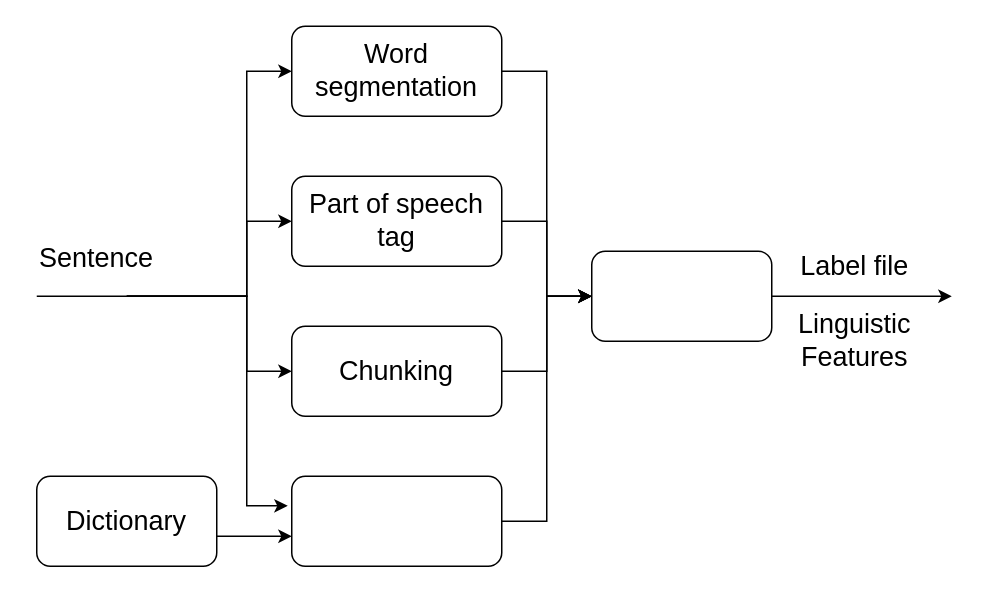
Image size: 990x593. Some labels were removed from this diagram. The centre of each missing label's shape, as x and y in pixels:
Genlab: (x=681, y=295)
Phonemes Generation: (x=396, y=520)
